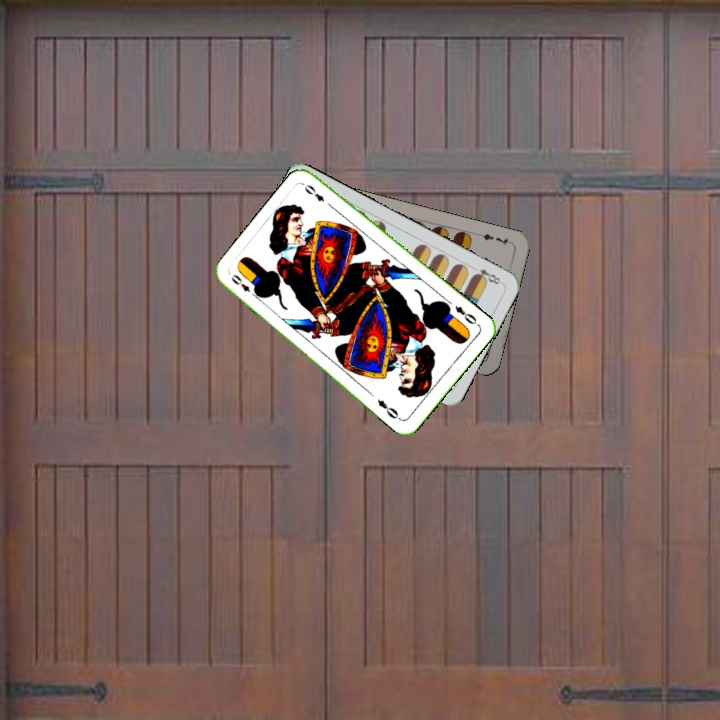E7: (474, 229, 514, 248)
E8: (469, 264, 505, 287)
EO: (227, 270, 261, 301), (451, 301, 481, 328)
